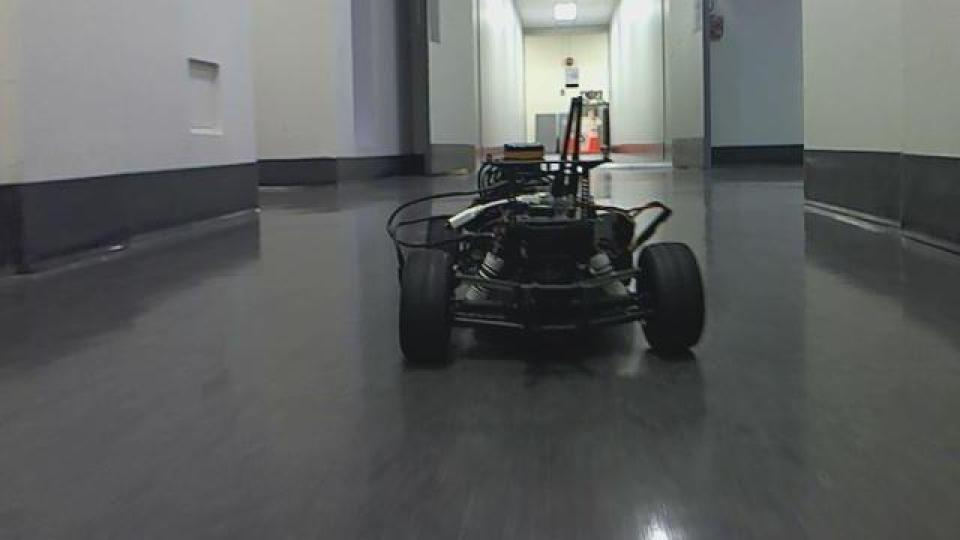car: (382, 146, 708, 366)
